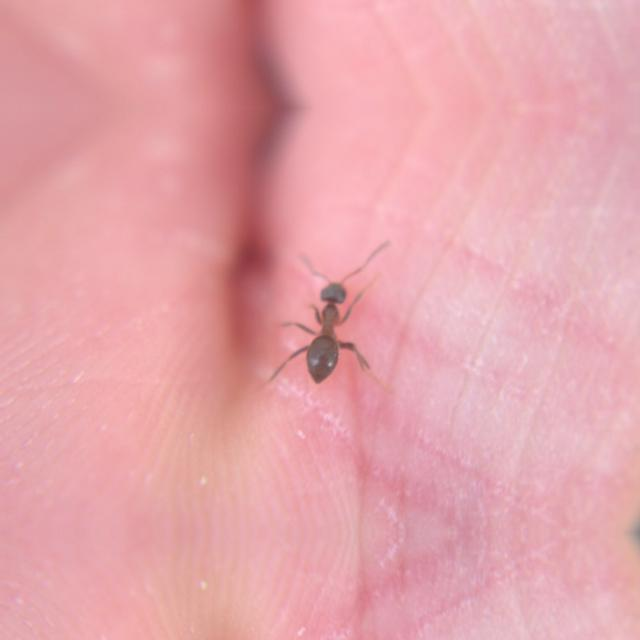Lasius: (286, 254, 388, 380)
